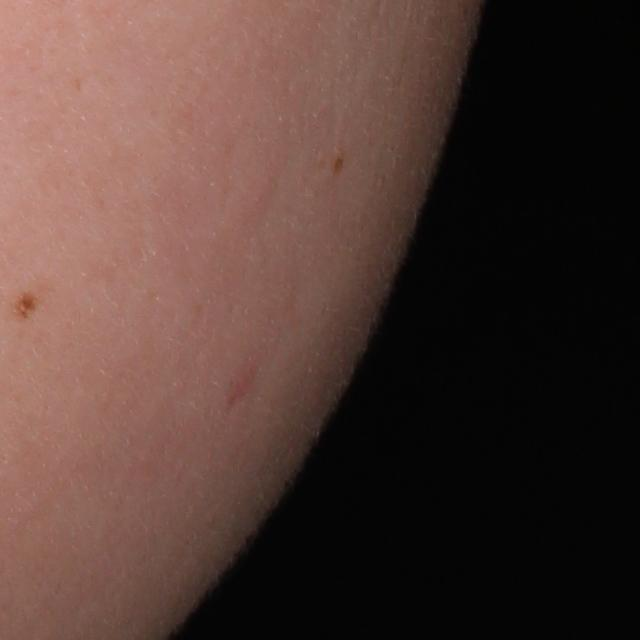nevus: (16, 295, 37, 326), (331, 154, 349, 175)
